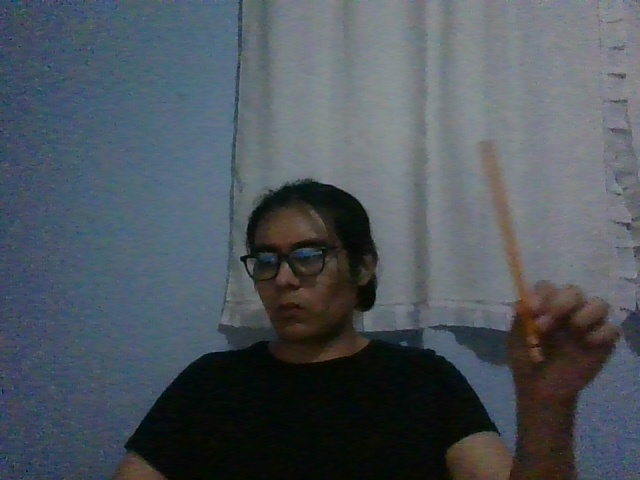lapiz: (477, 139, 546, 363)
